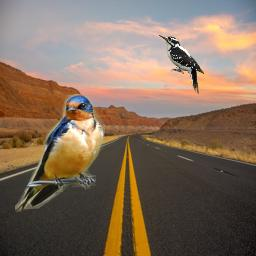Swallow: (15, 94, 105, 212)
Woodpecker: (158, 33, 204, 94)
